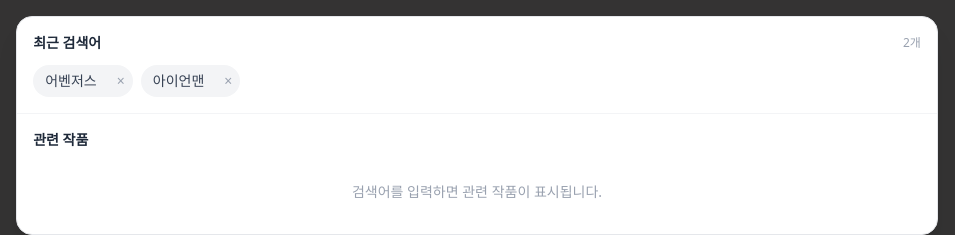
Test: SearchDropDown › 최근 검색어 삭제 버튼 클릭 시 해당 검색어가 목록에서 제거된다.
(page scrolled)
Check: the button "어벤저스" is shown, box 33,65 -> 109,97
Check: the button "아이언맨" is shown, box 141,65 -> 216,97
What coordinates should you click on to do the following:
click the button named "어벤저스 삭제"
I would click on:
 (121, 81)
Its box is 109,65 -> 133,97.
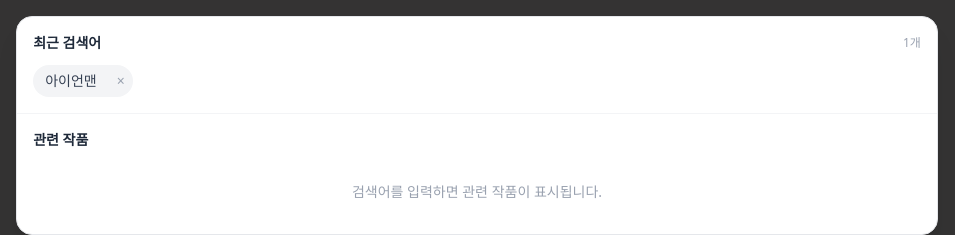
Check: the button "아이언맨" is shown, box 33,65 -> 109,97
Check: the button "어벤저스" is gone
